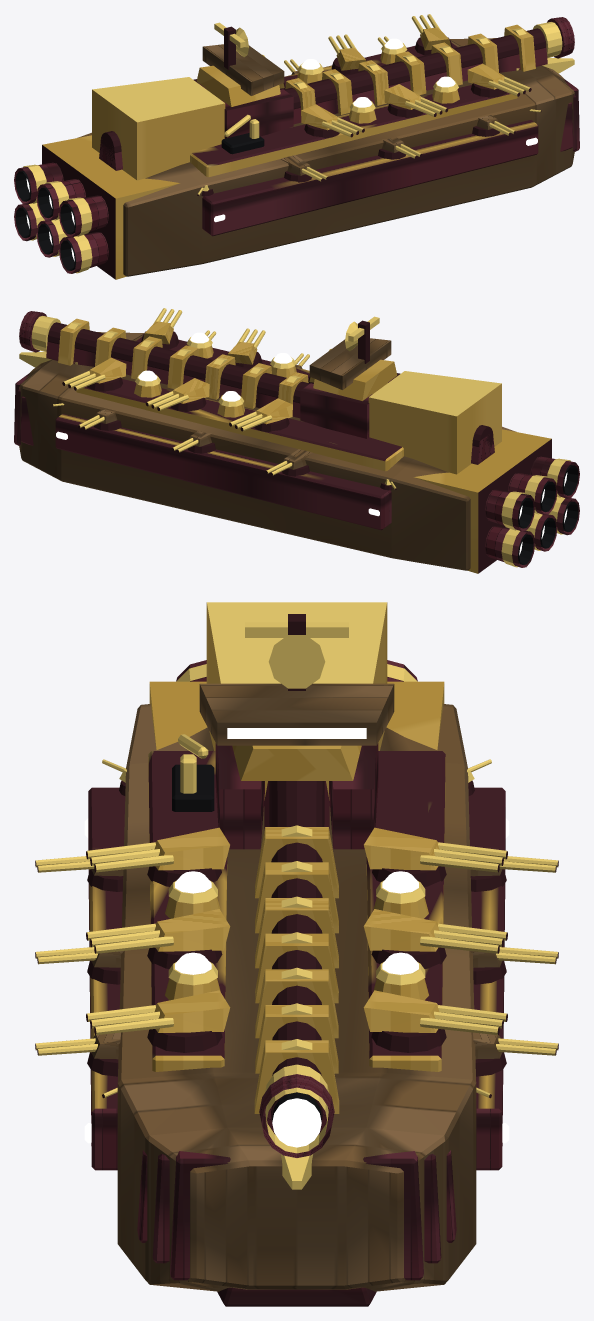
File: battleship.glb
3 views of the same model, one above another, from view 1: azimuth 30°, elevation 25°; view 2: azimuth 150°, elevation 25°; view 3: azimuth 270°, elevation 25° (orthographic). The views are drawn at different scales.
Visible parts, largest first — view 1: hull_body, weapon_mounts, engine_block, sensor_tower, shield_domes; view 2: hull_body, weapon_mounts, engine_block, sensor_tower, shield_domes; view 3: hull_body, weapon_mounts, sensor_tower, shield_domes, engine_block.
Part boxes in pixels (x1,y1,x2,y2): hull_body: [77, 38, 579, 276]; weapon_mounts: [99, 14, 574, 196]; engine_block: [14, 135, 179, 279]; sensor_tower: [193, 22, 293, 138]; shield_domes: [297, 38, 459, 123]; hull_body: [14, 332, 516, 570]; weapon_mounts: [19, 308, 494, 490]; engine_block: [414, 429, 579, 573]; sensor_tower: [300, 316, 400, 438]; shield_domes: [134, 332, 296, 417]; hull_body: [84, 602, 509, 1306]; weapon_mounts: [35, 759, 558, 1157]; sensor_tower: [199, 614, 394, 849]; shield_domes: [165, 871, 428, 1000]; engine_block: [149, 660, 444, 749].
Bounding box in the file's own units: 60 × 20.97 × 25.74.
1 material, 1 textured.
